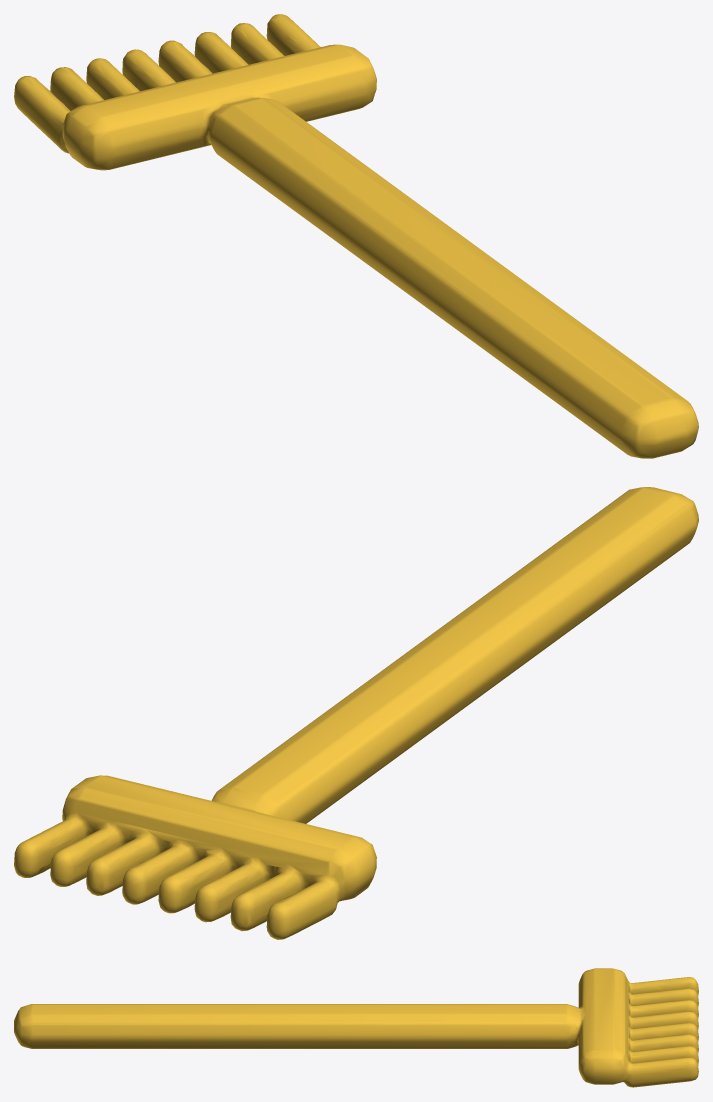
Rendered from shore_toy_rake.glb.
The picture shows the model from 3 angles, top to bottom: view 1: azimuth 30°, elevation 25°; view 2: azimuth 150°, elevation 25°; view 3: azimuth 270°, elevation 25°; orthographic projection. The views are drawn at different scales.
Parts seen in each view (by area): view 1: shore_toy_rake; view 2: shore_toy_rake; view 3: shore_toy_rake.
Boxes of the visible parts, <box> form: shore_toy_rake: <box>14,14,698,458</box>; shore_toy_rake: <box>14,487,698,939</box>; shore_toy_rake: <box>14,968,698,1087</box>.
Bounding box in the file's own units: 7 × 1.3 × 21.6.
